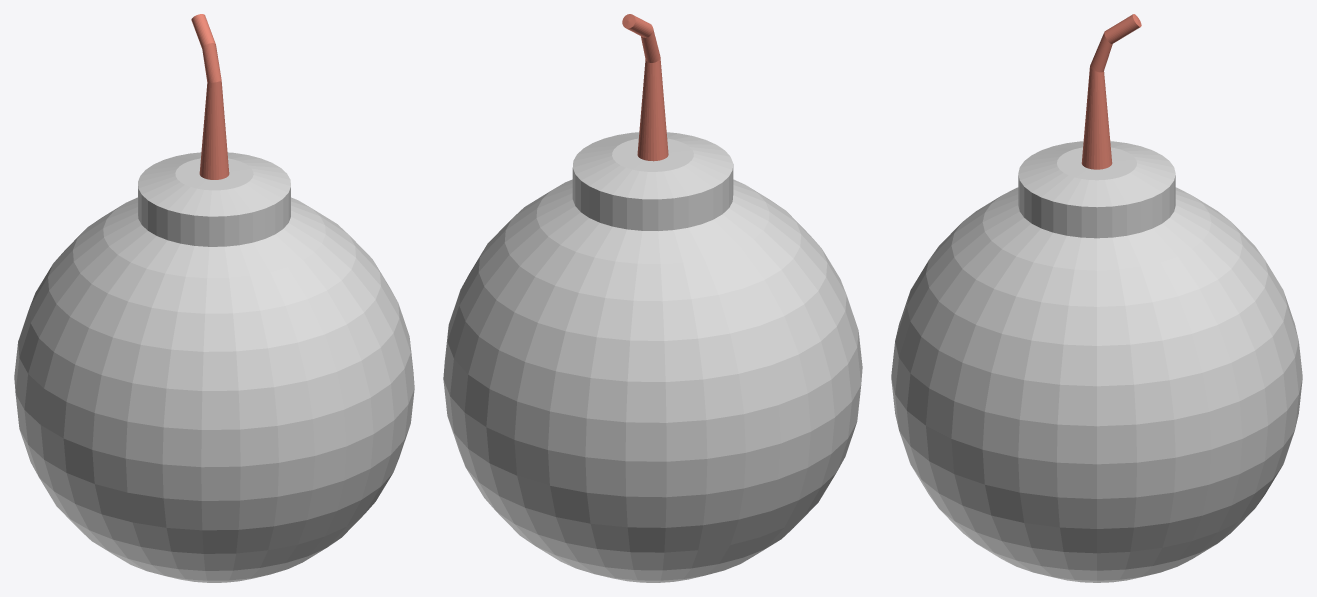
The model's file is Bomb.fbx.
The picture shows the model from 3 angles, left to right: view 1: azimuth 30°, elevation 25°; view 2: azimuth 150°, elevation 25°; view 3: azimuth 270°, elevation 25°; orthographic projection. The views are drawn at different scales.
Parts seen in each view (by area): view 1: Sphere.001; view 2: Sphere.001; view 3: Sphere.001.
Boxes of the visible parts, x1,y1,x2,y2 form: Sphere.001: (14, 14, 414, 582); Sphere.001: (443, 14, 862, 582); Sphere.001: (891, 14, 1302, 582).
Bounding box in the file's own units: 2 × 2.95 × 2.
